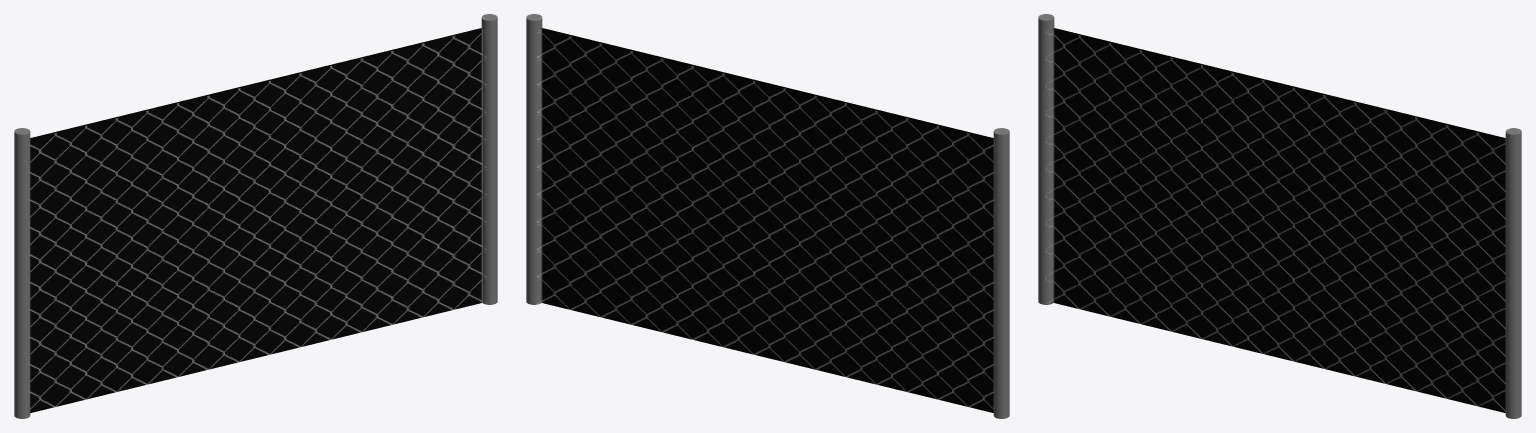
File: fence.fbx
3 views of the same model, side by side, from view 1: azimuth 30°, elevation 25°; view 2: azimuth 150°, elevation 25°; view 3: azimuth 330°, elevation 25° (orthographic).
Parts seen in each view (by area): view 1: Fence; view 2: Fence; view 3: Fence.
Part boxes in pixels (box(x1,y1,x2,y2)): Fence: box(14, 14, 497, 418); Fence: box(526, 14, 1009, 418); Fence: box(1038, 14, 1521, 418).
Size of the model in its own units: 8.24 by 4.65 by 0.2361.
